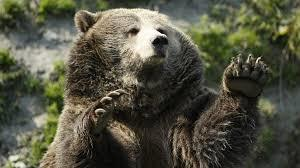bear: (39, 6, 275, 166)
